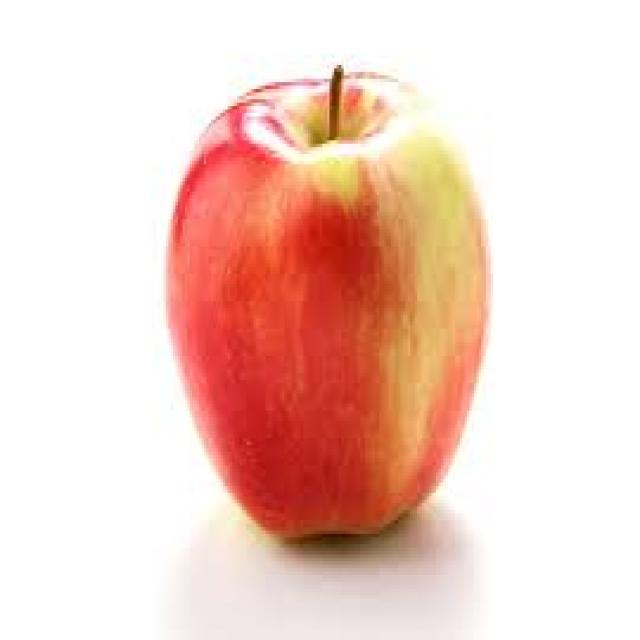Apple: (173, 84, 485, 539)
